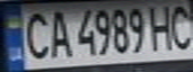4: (72, 4, 96, 56)
8: (109, 4, 130, 55)
9: (127, 3, 151, 53), (90, 4, 112, 56)
A: (45, 6, 72, 60)
C: (18, 8, 51, 61), (166, 1, 193, 51)
H: (148, 2, 178, 52)
